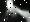person: (5, 1, 30, 22)
